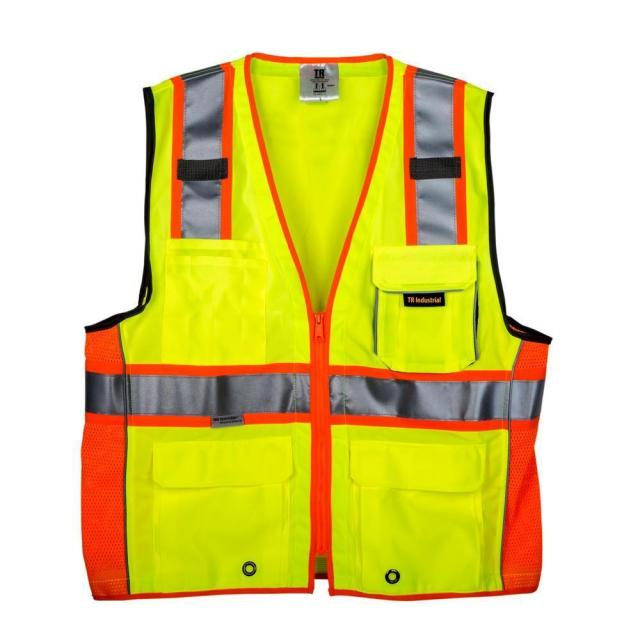Vest: (79, 48, 554, 600)
